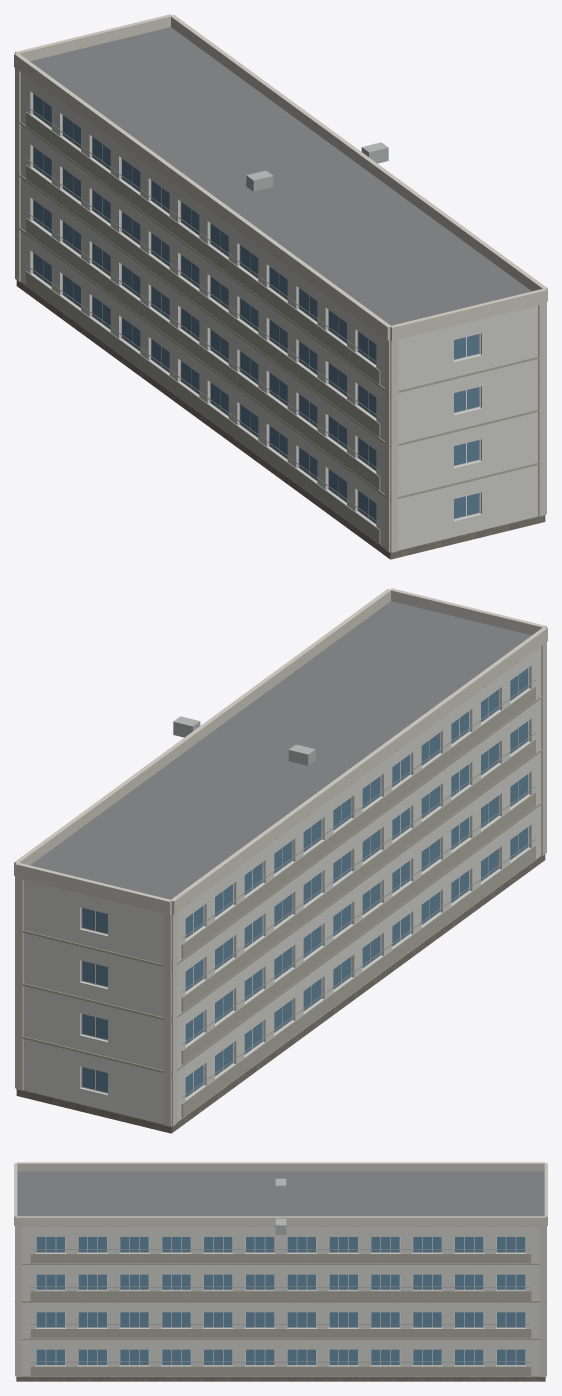
3 renders of one model, top to bottom at view 1: azimuth 30°, elevation 25°; view 2: azimuth 150°, elevation 25°; view 3: azimuth 270°, elevation 25°, orthographic. The views are drawn at different scales.
Parts seen in each view (by area): view 1: annex__white, annex__roof, annex__band, annex__cap, annex__sideglass, annex__stone, annex__frame, annex__steel, annex__unit; view 2: annex__white, annex__roof, annex__band, annex__cap, annex__sideglass, annex__stone, annex__frame, annex__steel, annex__unit; view 3: annex__white, annex__roof, annex__band, annex__glass, annex__cap, annex__frame, annex__stone, annex__steel, annex__unit.
Part boxes in pixels (bbox=[...]): annex__white: bbox=[20, 72, 538, 550]; annex__roof: bbox=[30, 27, 531, 325]; annex__band: bbox=[19, 112, 538, 543]; annex__cap: bbox=[14, 14, 547, 552]; annex__sideglass: bbox=[33, 94, 479, 523]; annex__stone: bbox=[16, 280, 545, 559]; annex__frame: bbox=[33, 93, 480, 524]; annex__steel: bbox=[26, 106, 379, 523]; annex__unit: bbox=[246, 142, 388, 191]; annex__white: bbox=[23, 646, 541, 1124]; annex__roof: bbox=[30, 601, 531, 899]; annex__band: bbox=[23, 686, 542, 1117]; annex__cap: bbox=[14, 588, 547, 1126]; annex__sideglass: bbox=[82, 668, 528, 1097]; annex__stone: bbox=[16, 854, 545, 1133]; annex__frame: bbox=[81, 667, 528, 1098]; annex__steel: bbox=[182, 680, 535, 1097]; annex__unit: bbox=[173, 716, 315, 765]; annex__white: bbox=[22, 1227, 539, 1376]; annex__roof: bbox=[17, 1171, 544, 1216]; annex__band: bbox=[15, 1253, 546, 1375]; annex__glass: bbox=[36, 1237, 525, 1364]; annex__cap: bbox=[14, 1162, 547, 1376]; annex__frame: bbox=[36, 1237, 525, 1365]; annex__stone: bbox=[16, 1376, 545, 1381]; annex__steel: bbox=[31, 1249, 530, 1362]; annex__unit: bbox=[275, 1178, 286, 1234].
Bounding box in the file's own units: 13.09 × 15.86 × 46.38.
Materials: 10 (3 with a texture image).
